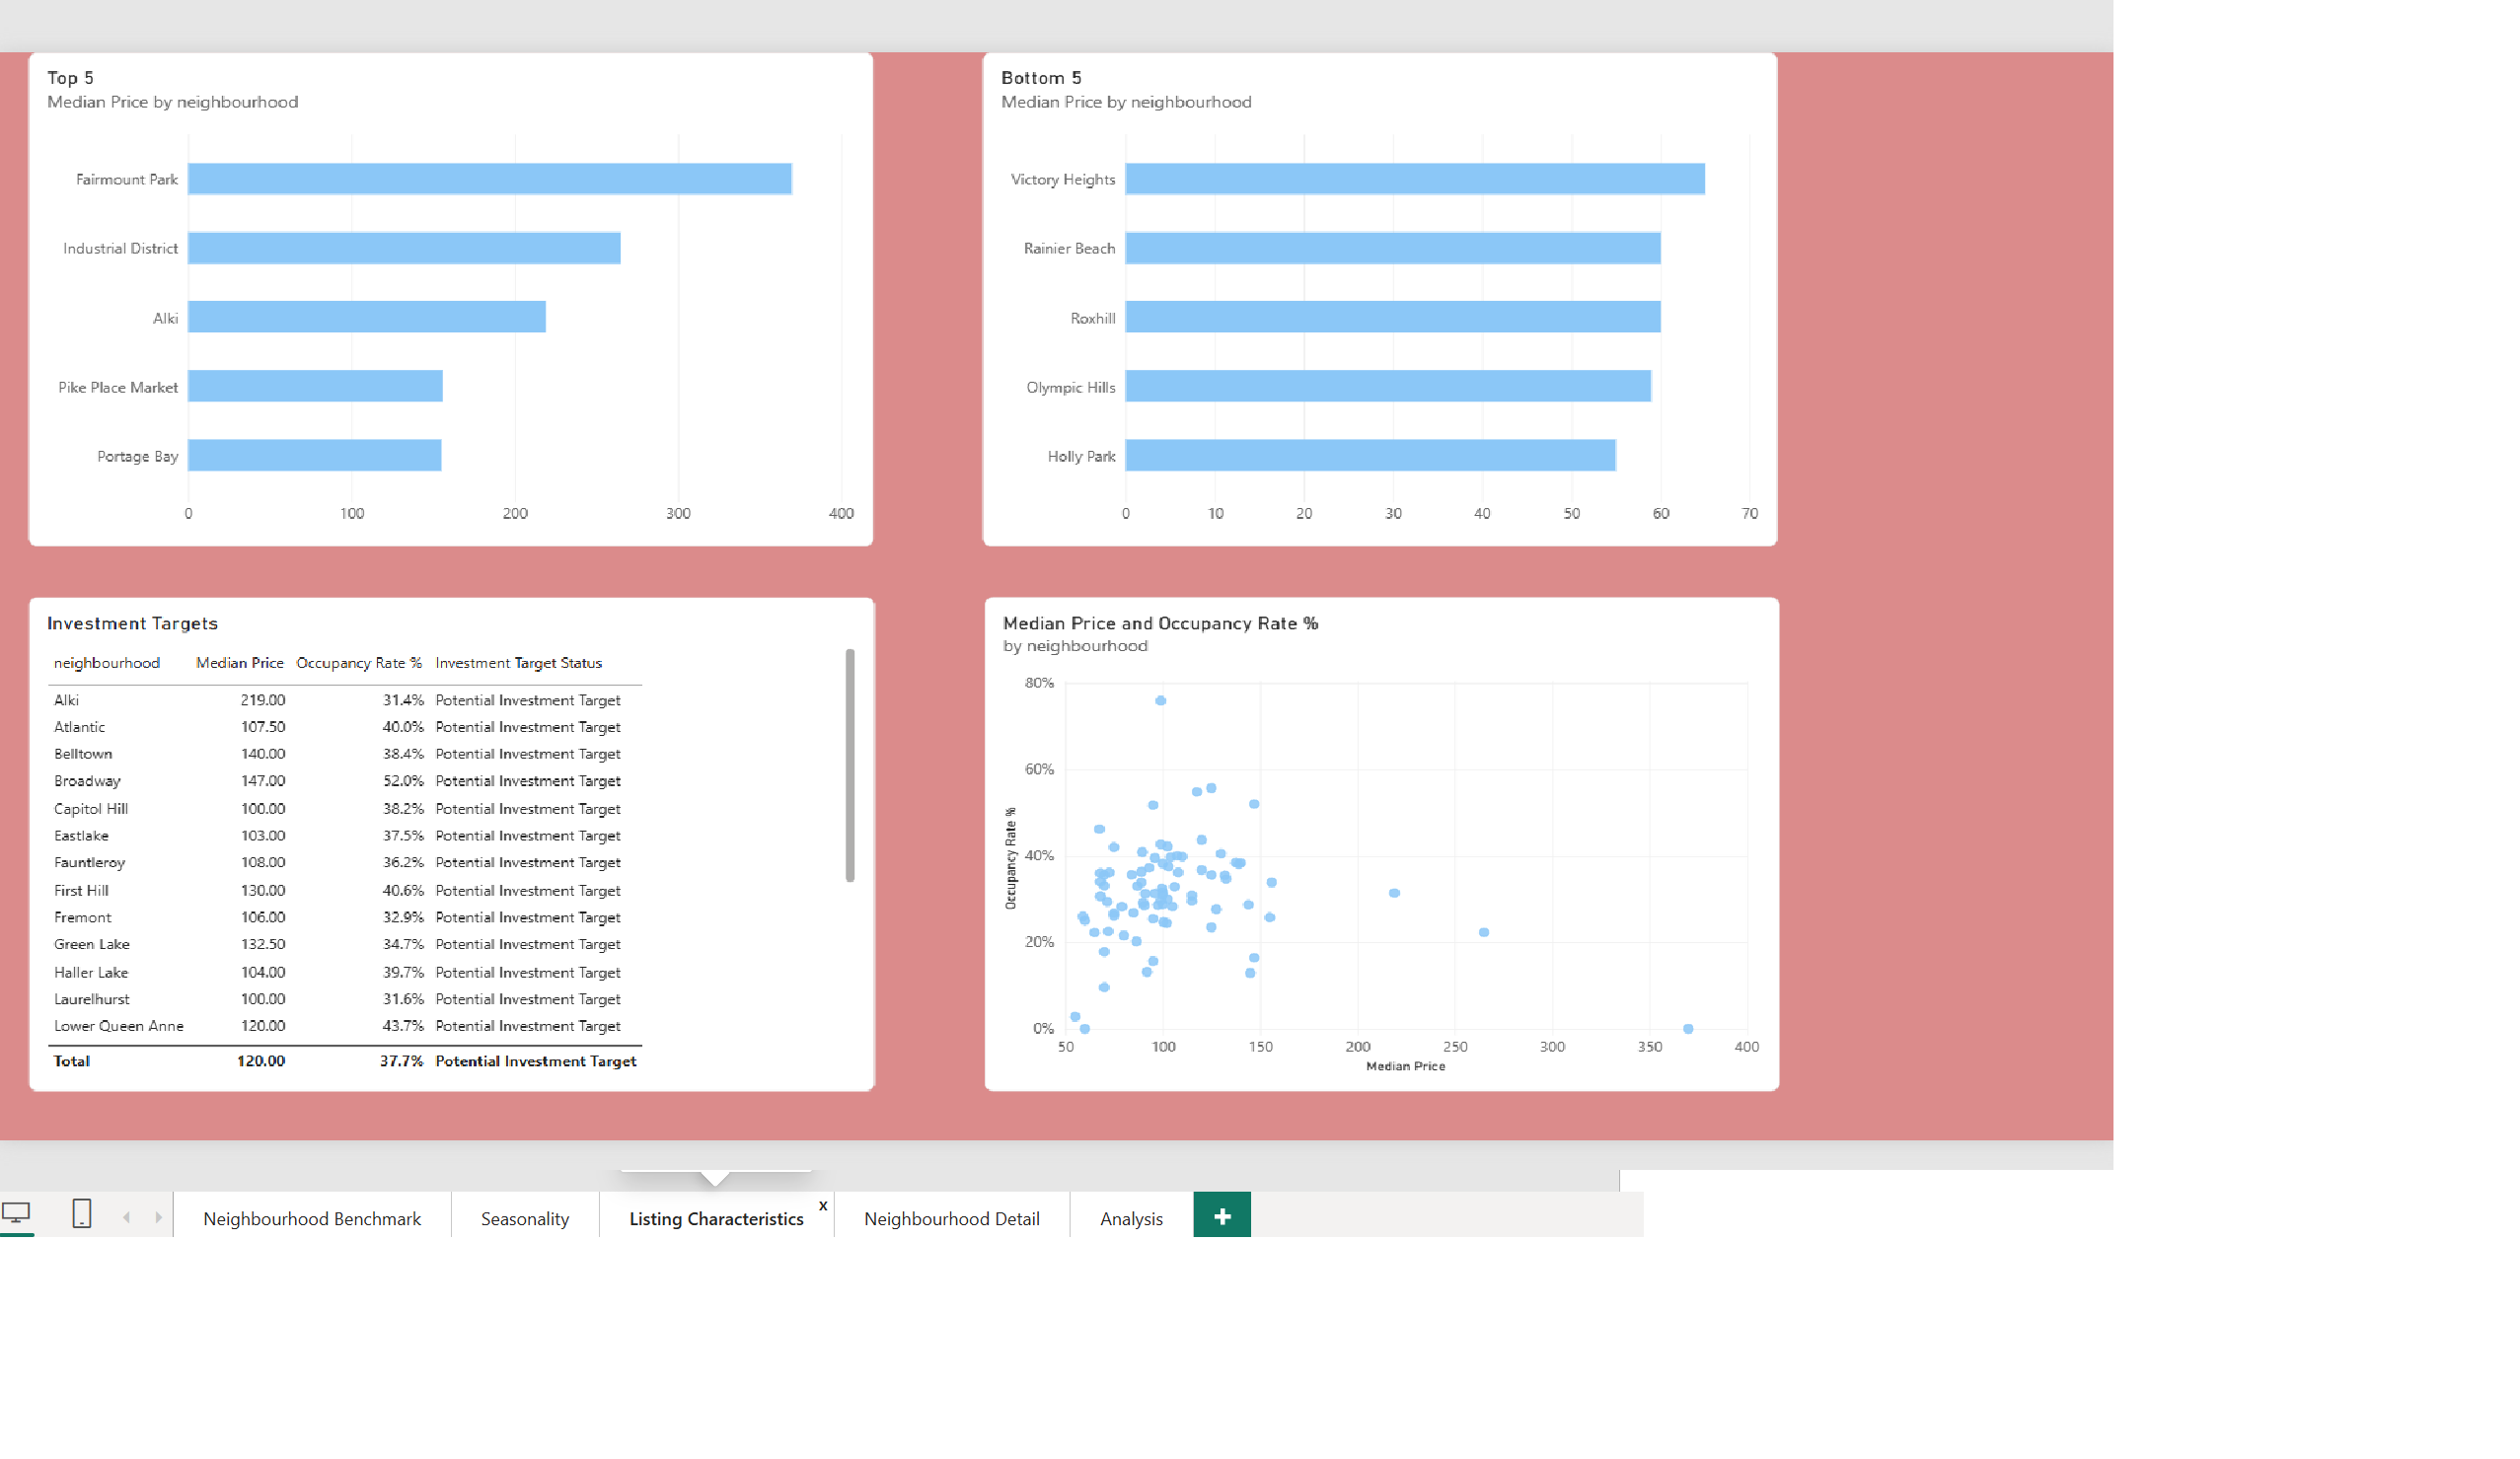

The dashboard page shown, as its layout file describes it:
{"tool":"powerbi","page":{"name":"Analysis","canvas":[1920,1080],"ordinal":4},"visuals":[{"type":"barChart","title":" Top 5","fields":{"Category":["listings.neighbourhood"],"Y":["Date.Median Price"]},"box":[26.1,0,766.5,490.1],"z":0},{"type":"barChart","title":"Bottom 5","fields":{"Category":["listings.neighbourhood"],"Y":["Date.Median Price"]},"box":[891.6,0,721.3,490.1],"z":1000},{"type":"tableEx","title":"Investment Targets","fields":{"Values":["listings.neighbourhood","Date.Median Price","Date.Occupancy Rate %","Date.Investment Target Status"]},"box":[26.1,540.5,767,490],"z":2000},{"type":"scatterChart","fields":{"Category":["listings.neighbourhood"],"X":["Date.Median Price"],"Y":["Date.Occupancy Rate %"]},"box":[893.4,540.5,721,490],"z":3000},{"type":"textbox","box":[1623.4,0,297.2,849.9],"z":3001}]}

Visuals, with their boxes on the page's 1920x1080 design canvas (x1, y1, x2, y2). These are canvas units, not pixel positions in the 2520x1459 screenshot, which may show the page scaled, cropped or inside an application window:
" Top 5" barChart: 26 0 793 490
"Bottom 5" barChart: 892 0 1613 490
"Investment Targets" tableEx: 26 540 793 1030
scatterChart - listings.neighbourhood x Date.Median Price: 893 540 1614 1030
textbox: 1623 0 1921 850
